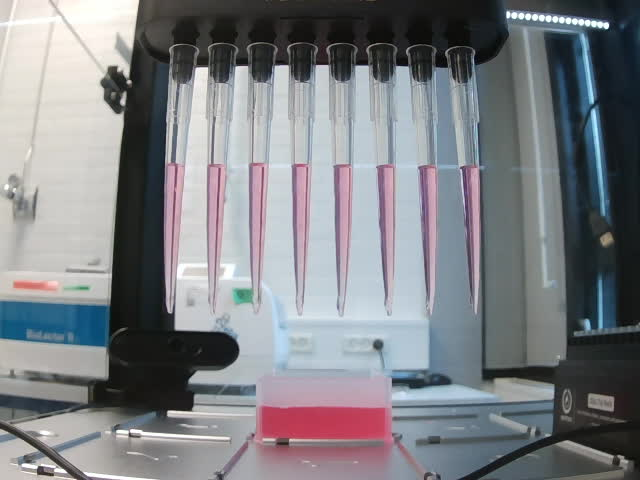pipet: (445, 44, 483, 316), (164, 44, 201, 314), (325, 41, 360, 319), (366, 41, 400, 317), (405, 43, 439, 316), (206, 43, 239, 317), (287, 41, 319, 316), (246, 42, 277, 315)
red liquid: (246, 161, 271, 315), (459, 165, 483, 317), (205, 164, 228, 316), (291, 164, 313, 316), (417, 165, 439, 317), (164, 163, 186, 314), (333, 165, 354, 317), (377, 163, 397, 317)
